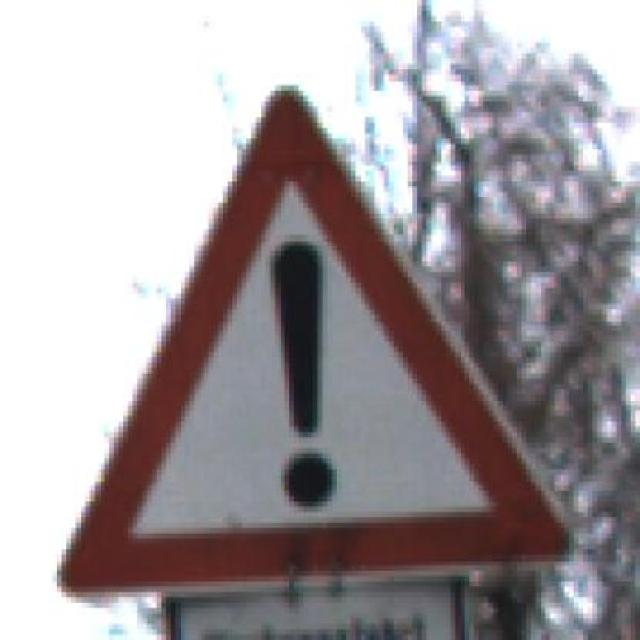Attention Please-: (47, 69, 593, 597)
